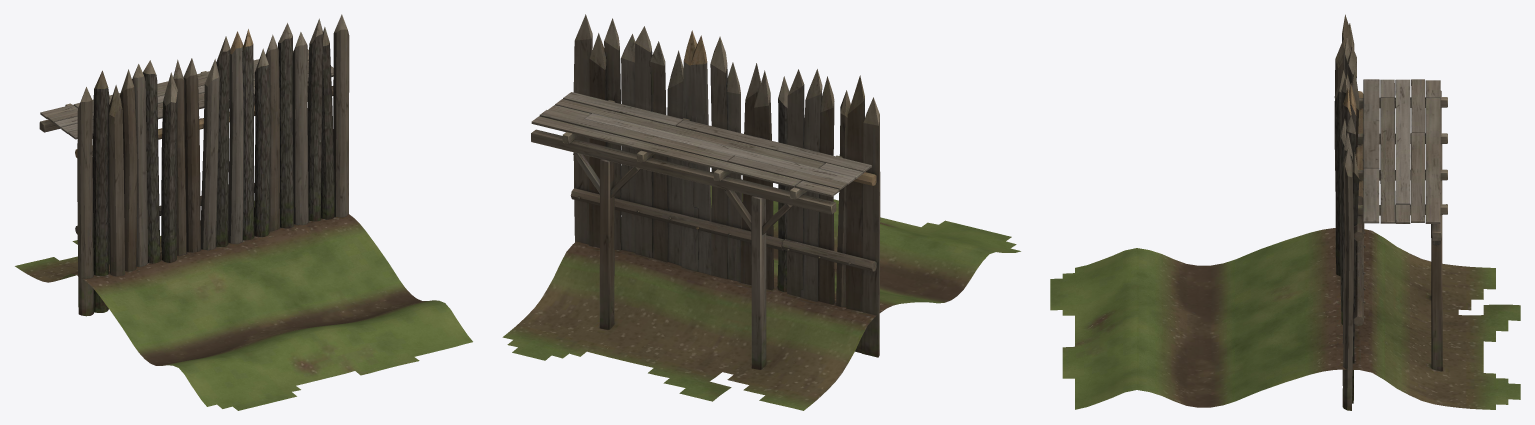
The model's file is palisade_b.glb.
3 renders of one model, left to right at view 1: azimuth 30°, elevation 25°; view 2: azimuth 150°, elevation 25°; view 3: azimuth 270°, elevation 25°, orthographic. The views are drawn at different scales.
Parts seen in each view (by area): view 1: palisade_b_LOD0; view 2: palisade_b_LOD0; view 3: palisade_b_LOD0.
Boxes of the visible parts, <box> form: palisade_b_LOD0: <box>15,14,472,410</box>; palisade_b_LOD0: <box>502,14,1020,410</box>; palisade_b_LOD0: <box>1050,14,1520,410</box>.
Size of what is drawn, in the model's own units: 6.09 by 5.32 by 8.4.
Materials: 1 (1 with a texture image).
